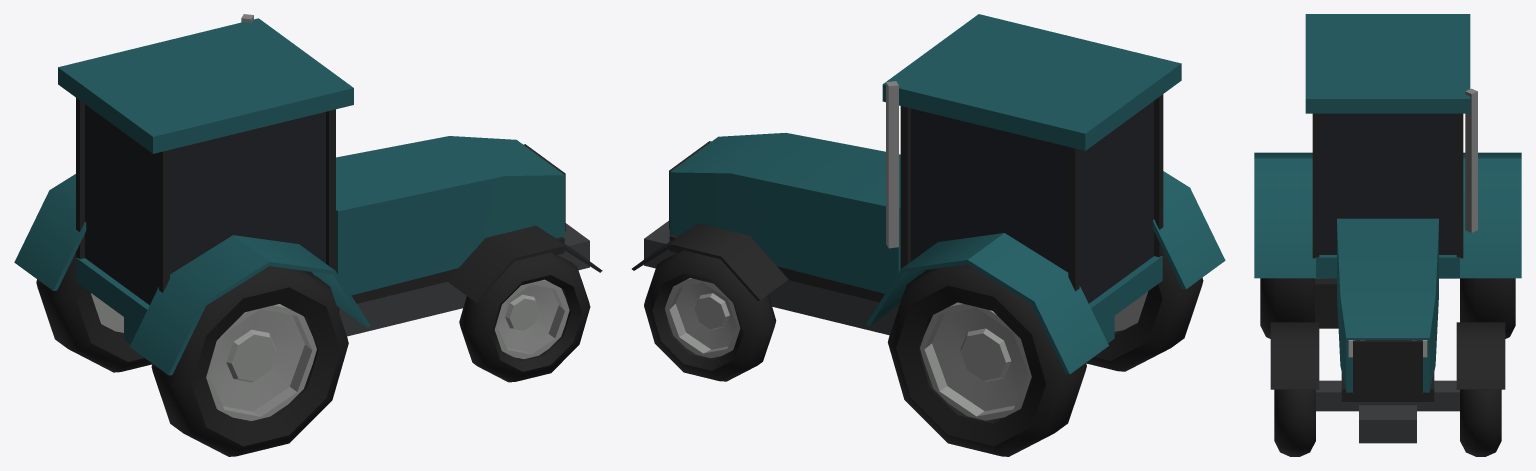
The model's file is SM_Prop_farm_tractor_utility_0_LOD2.glb.
3 renders of one model, left to right at view 1: azimuth 30°, elevation 25°; view 2: azimuth 150°, elevation 25°; view 3: azimuth 270°, elevation 25°, orthographic. The views are drawn at different scales.
Visible parts, largest first — view 1: SM_Prop_farm_tractor_utility_0_LOD2; view 2: SM_Prop_farm_tractor_utility_0_LOD2; view 3: SM_Prop_farm_tractor_utility_0_LOD2.
Part boxes in pixels (x1,y1,x2,y2): SM_Prop_farm_tractor_utility_0_LOD2: [14, 14, 602, 456]; SM_Prop_farm_tractor_utility_0_LOD2: [632, 14, 1225, 456]; SM_Prop_farm_tractor_utility_0_LOD2: [1254, 14, 1521, 456].
Bounding box in the file's own units: 4.15 × 2.69 × 2.3.
